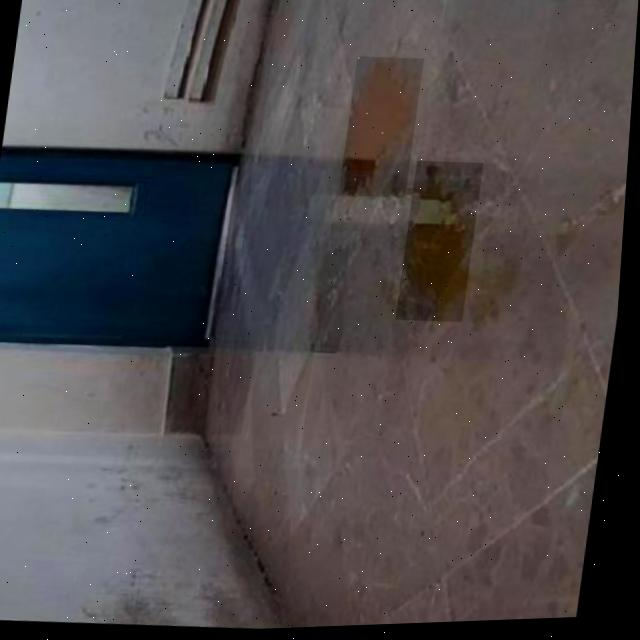spillage: (408, 164, 473, 322), (348, 60, 417, 197)
